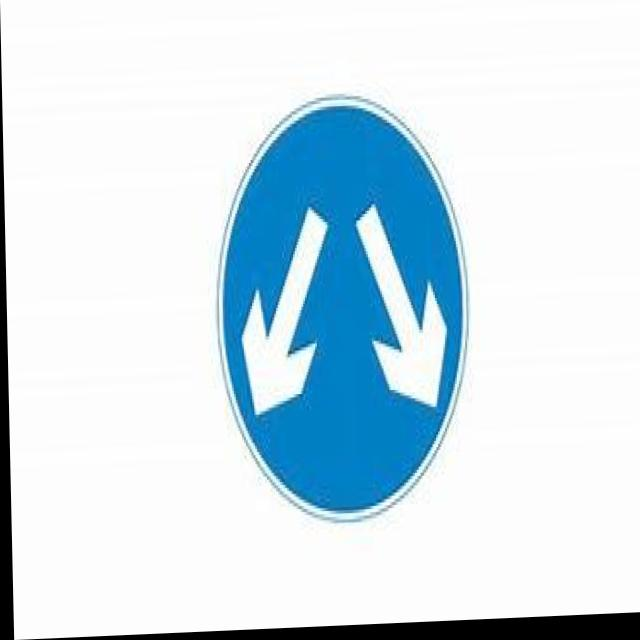PASS_EITHER_SIDE: (209, 87, 473, 536)
